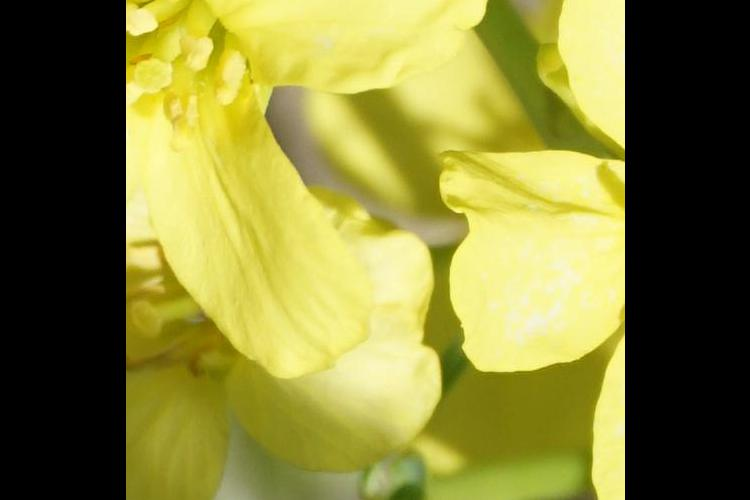bud: (375, 480, 428, 500)
yellow: (145, 1, 483, 378), (129, 216, 426, 500), (447, 161, 618, 392), (538, 1, 626, 132)
